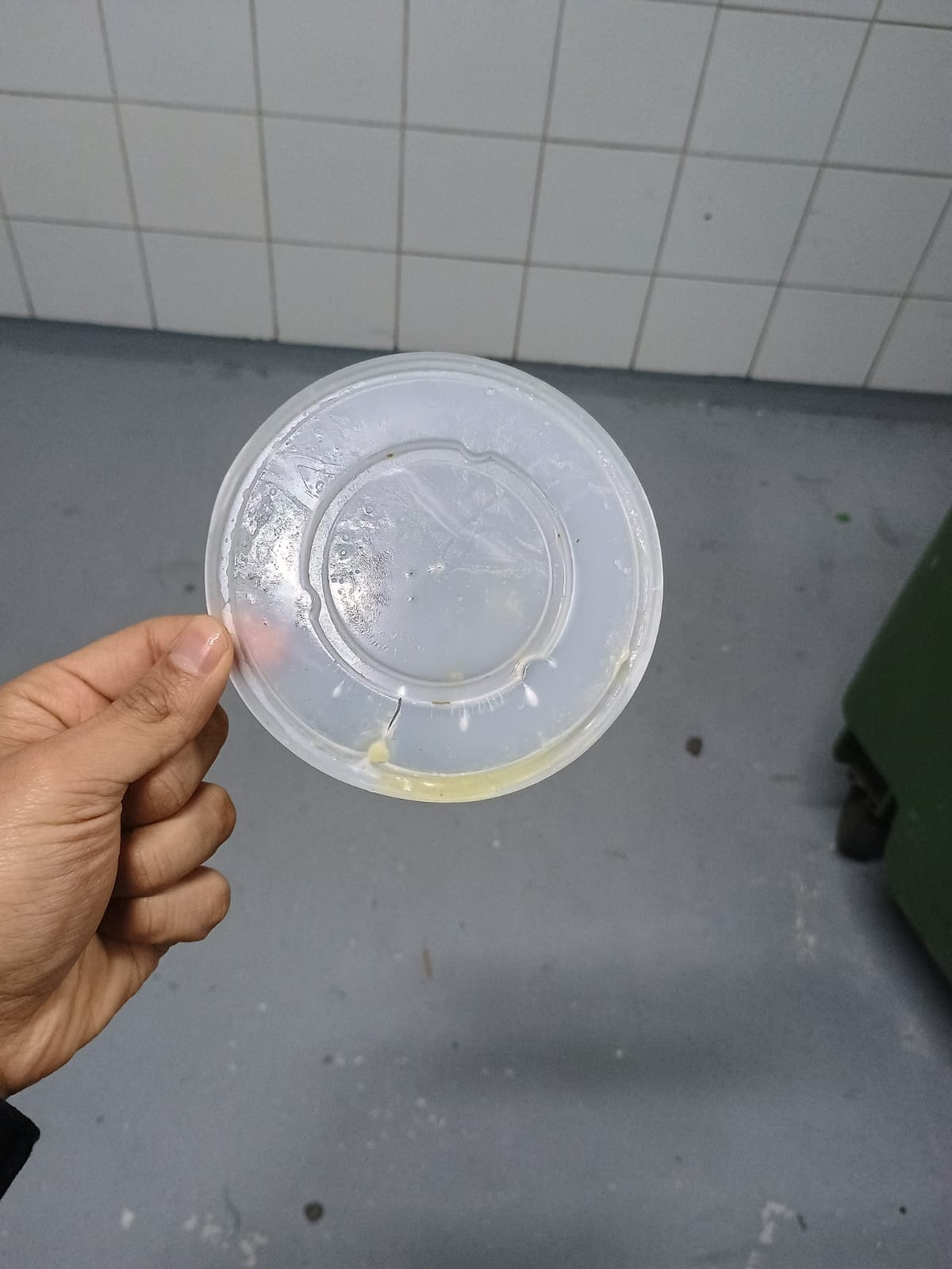Ordinario: (198, 352, 667, 811)
